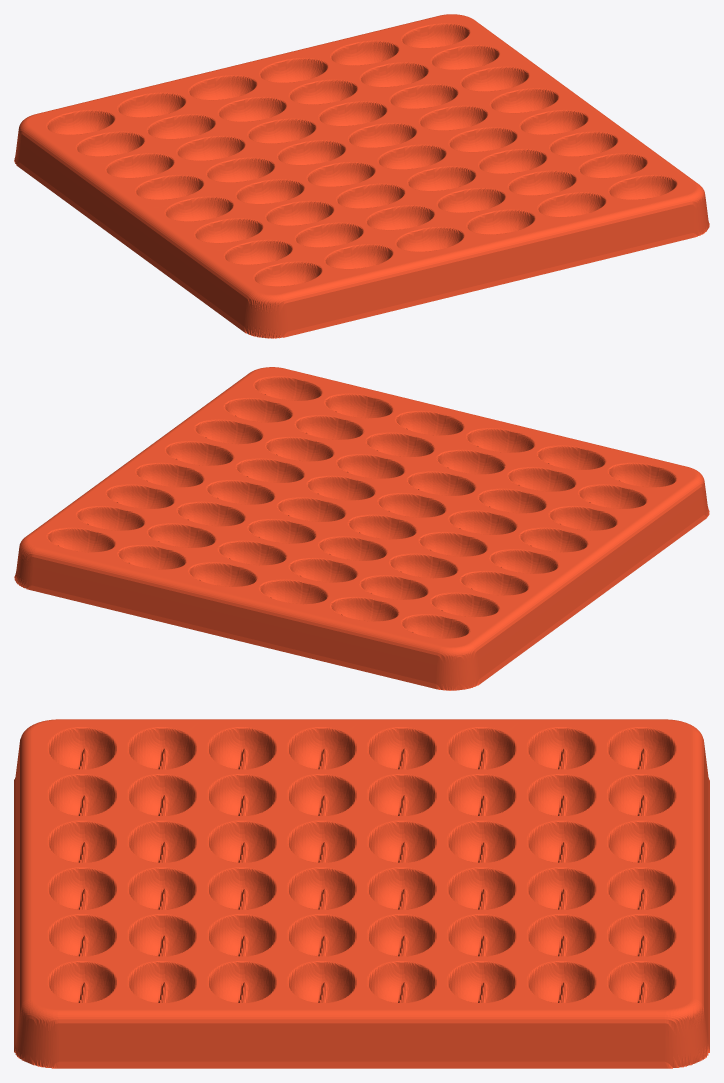
File: mold.glb
3 renders of one model, top to bottom at view 1: azimuth 30°, elevation 25°; view 2: azimuth 150°, elevation 25°; view 3: azimuth 270°, elevation 25°, orthographic. The views are drawn at different scales.
Parts seen in each view (by area): view 1: geometry_0; view 2: geometry_0; view 3: geometry_0.
Boxes of the visible parts, box(x1,y1,x2,y2) form: geometry_0: box(14, 14, 709, 338); geometry_0: box(14, 367, 709, 690); geometry_0: box(14, 719, 709, 1068).
Size of the model in its own units: 0.1443 by 0.0113 by 0.1394.
